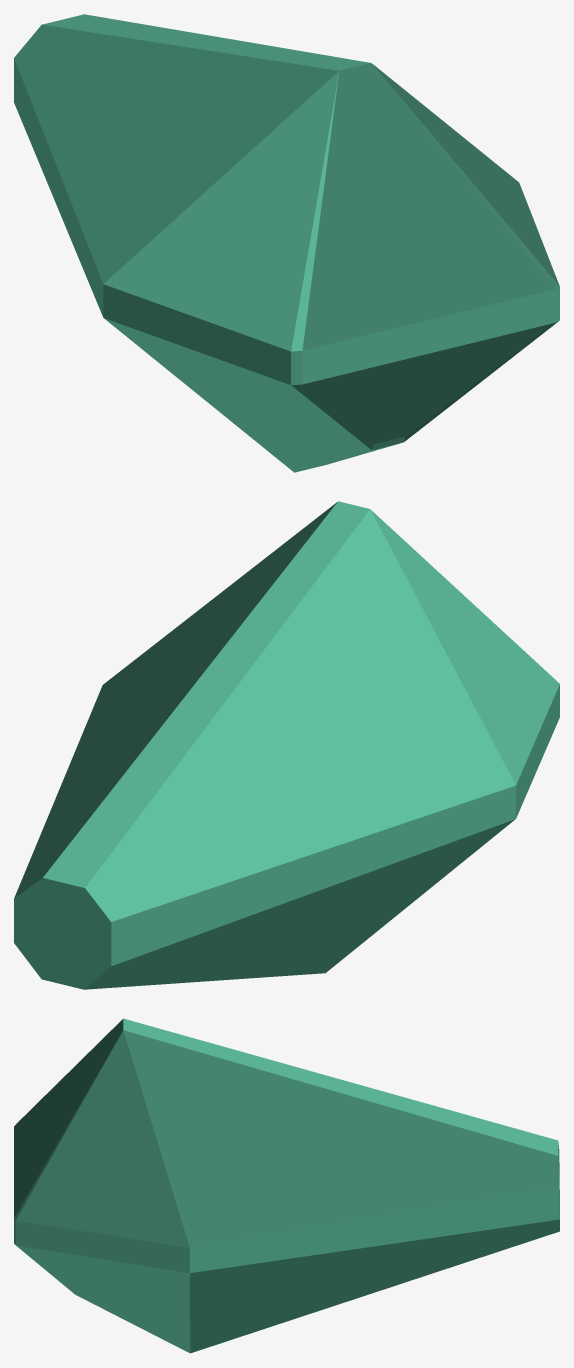
The model's file is GreenOnionLeafCollider.obj.
3 renders of one model, top to bottom at view 1: azimuth 30°, elevation 25°; view 2: azimuth 150°, elevation 25°; view 3: azimuth 270°, elevation 25°, orthographic. The views are drawn at different scales.
Parts seen in each view (by area): view 1: leek; view 2: leek; view 3: leek.
Part boxes in pixels (x1,y1,x2,y2): leek: [14, 14, 559, 472]; leek: [14, 501, 559, 989]; leek: [14, 1018, 559, 1353].
Size of the model in its own units: 0.1432 by 0.1429 by 0.2188.
